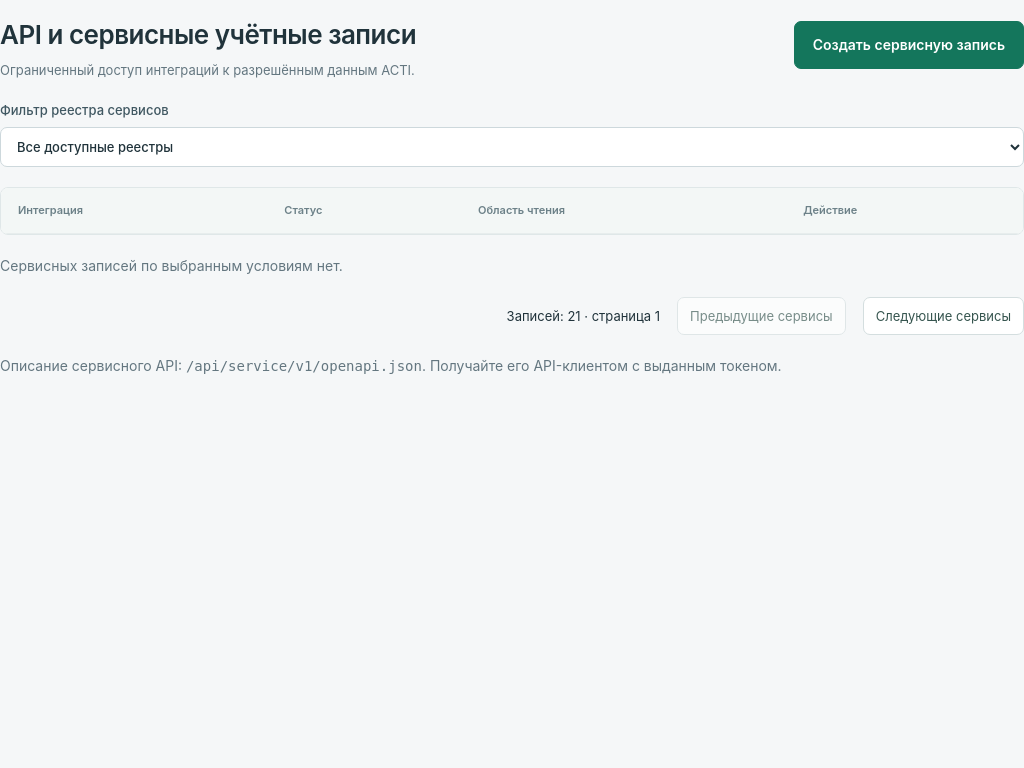
creates an explicit read-only service scope without a password or interactive roles
The width and height of the screenshot is (1024, 768).
Click the button "Создать сервисную запись" at coordinates (909, 45), box [794,21,1023,69]
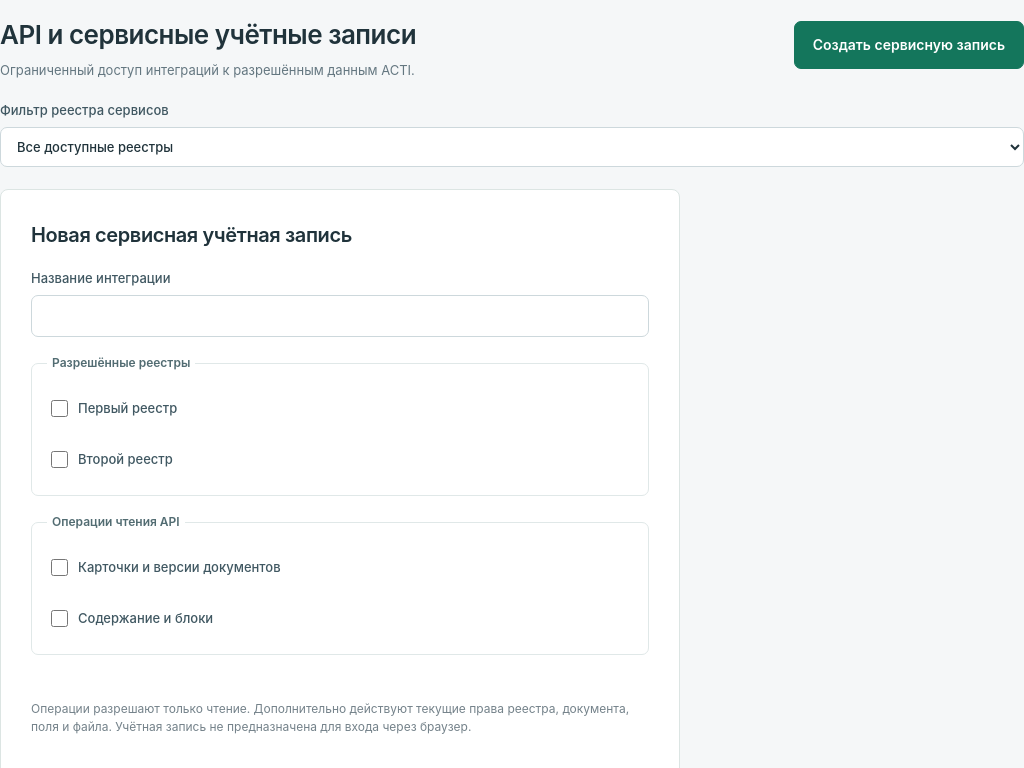
Type "Интеграция для чтения" into the field labelled "Название интеграции" at coordinates (340, 316), box [31,295,649,337]
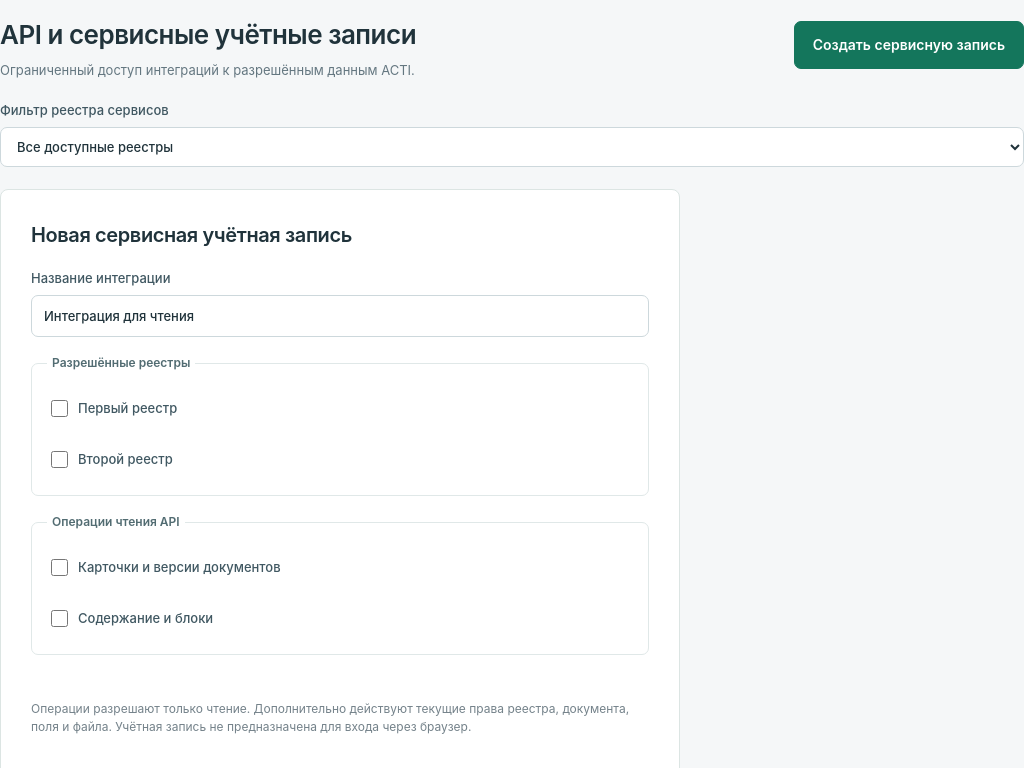
Click the checkbox labelled "Первый реестр" at coordinates (60, 408), box [51,400,68,417]
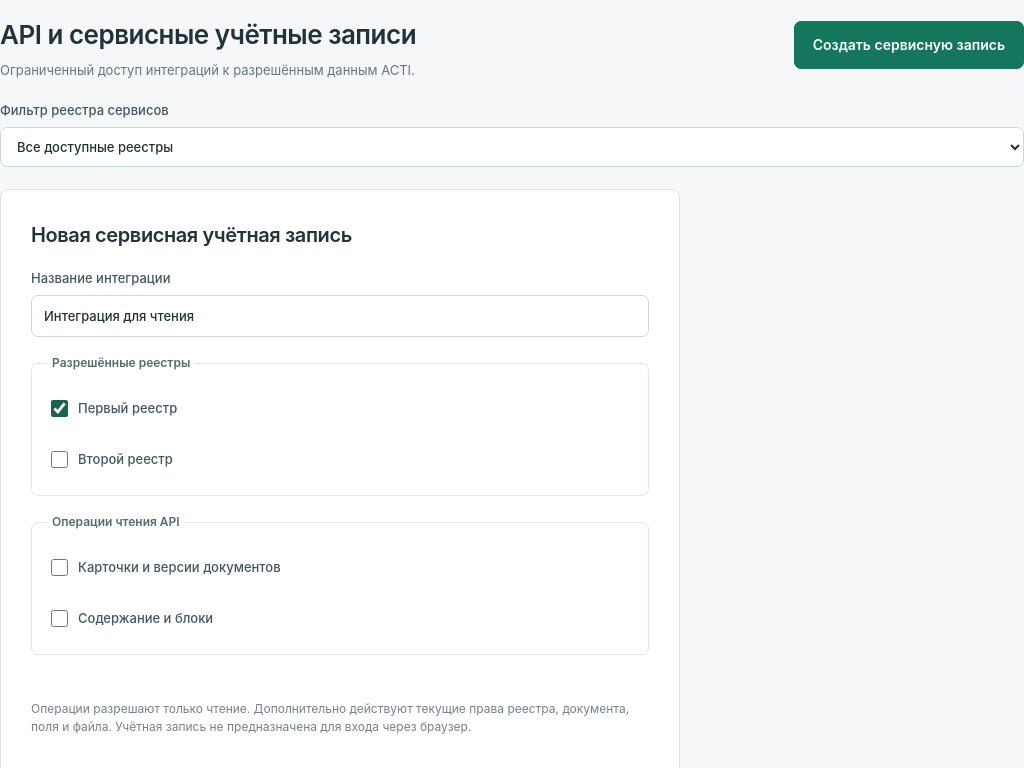
Click the checkbox labelled "Содержание и блоки" at coordinates (60, 618), box [51,610,68,626]
(page scrolled)
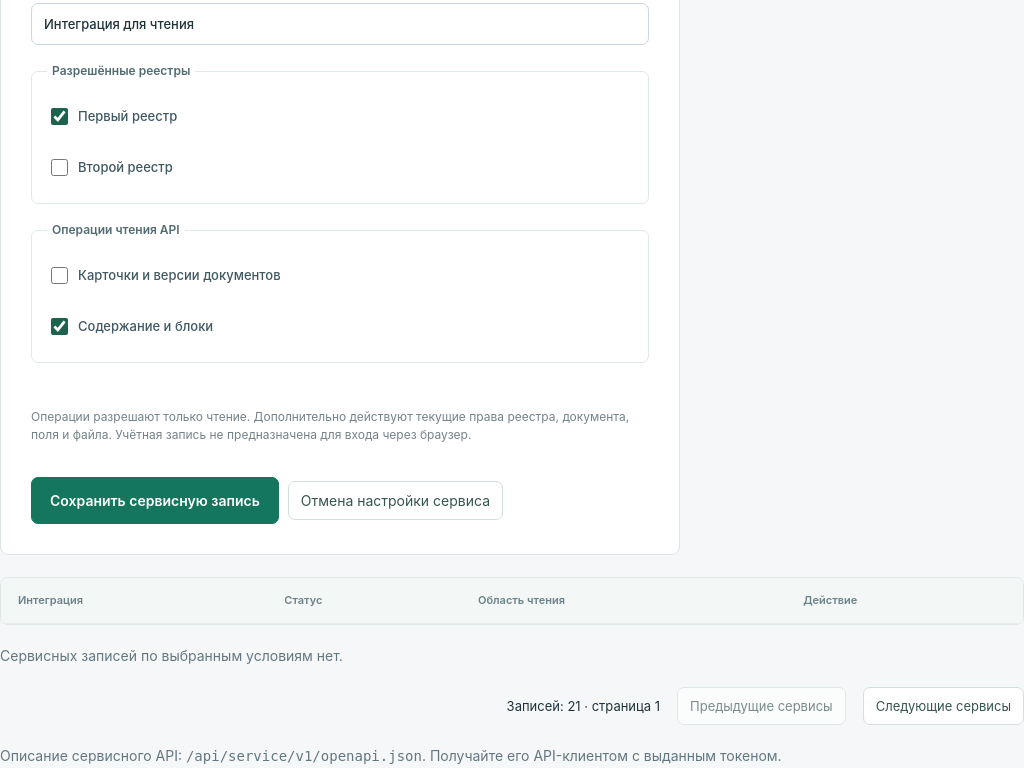
Click the button "Сохранить сервисную запись" at coordinates (155, 501), box [31,477,279,524]
(page scrolled)
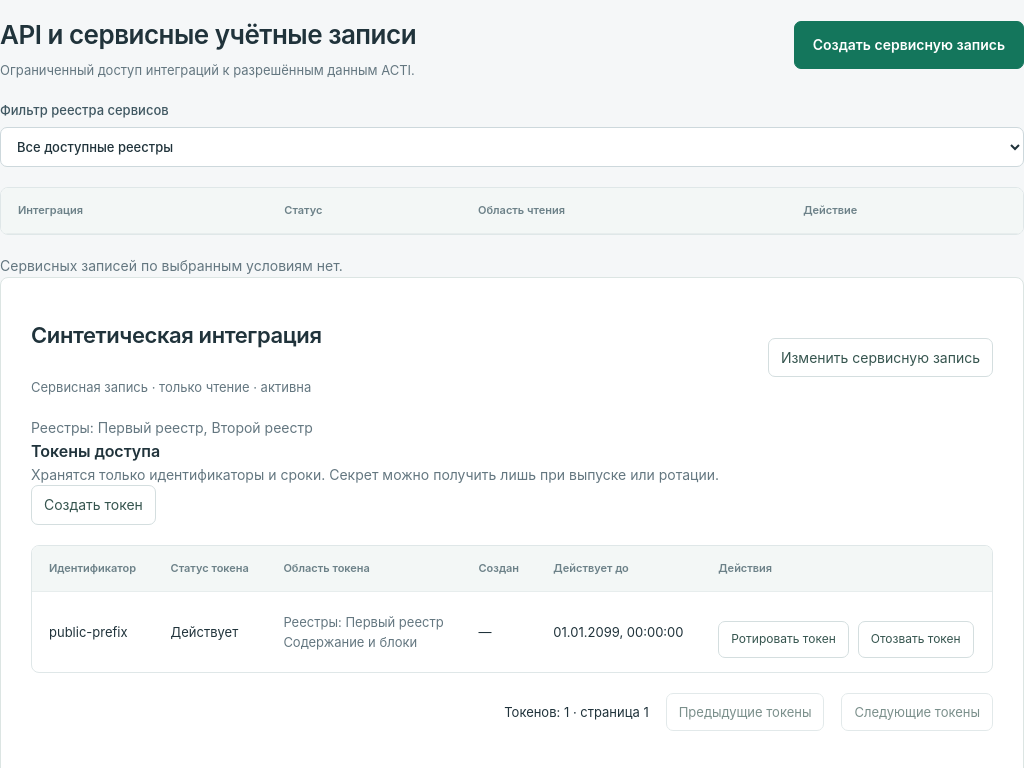
Now the heading "Синтетическая интеграция" is shown, box [31,318,322,352]
